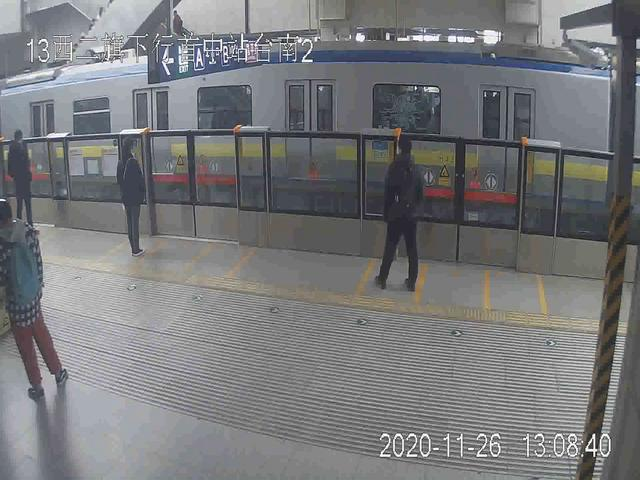person: (1, 201, 67, 400), (379, 137, 421, 291), (116, 140, 151, 255), (6, 128, 36, 225)
